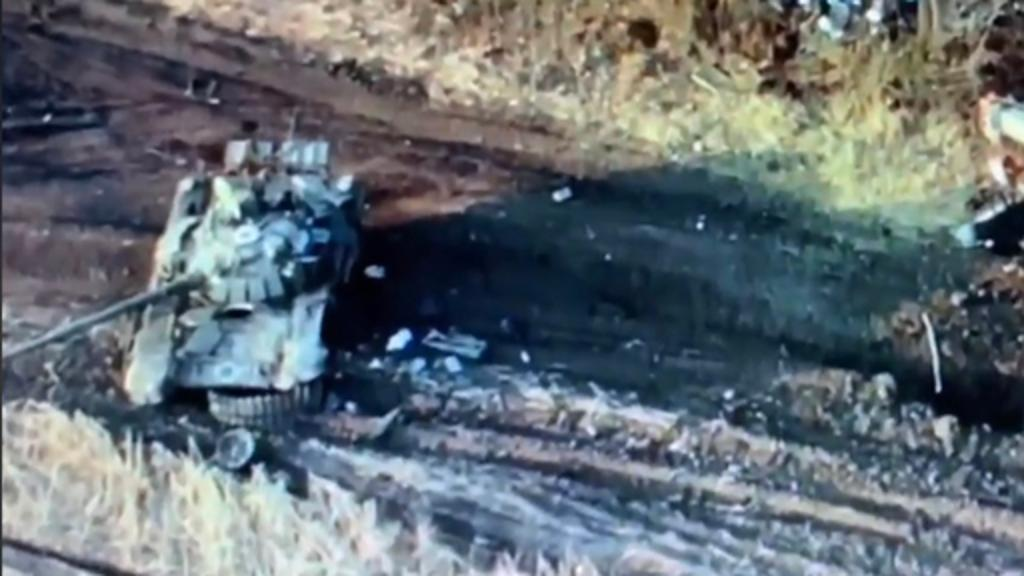TANK: (0, 114, 372, 436)
